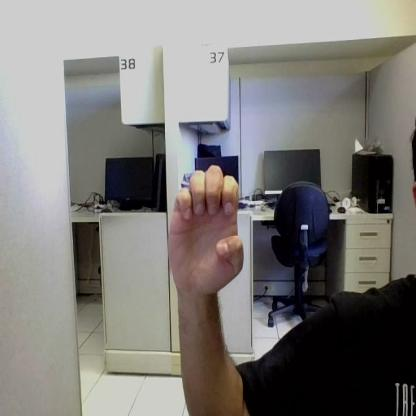E: (168, 166, 242, 290)
